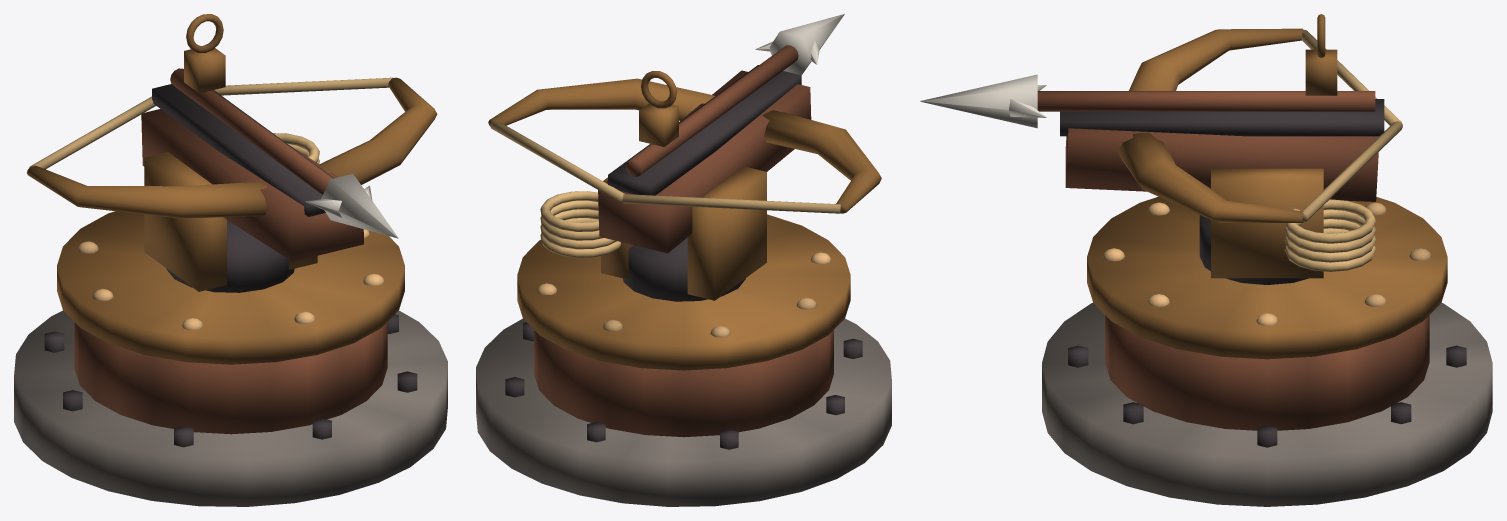
Rendered from torreta-arponero.glb.
3 renders of one model, left to right at view 1: azimuth 30°, elevation 25°; view 2: azimuth 150°, elevation 25°; view 3: azimuth 270°, elevation 25°, orthographic. The views are drawn at different scales.
Parts seen in each view (by area): view 1: Base, Head, Bow_L, Bow_R, Harpoon; view 2: Base, Head, Bow_L, Bow_R, Harpoon; view 3: Base, Head, Harpoon, Bow_R, Bow_L.
Boxes of the visible parts, <box> form: Base: <box>14,211,447,506</box>; Head: <box>141,14,363,292</box>; Bow_L: <box>27,96,267,218</box>; Bow_R: <box>214,77,437,184</box>; Harpoon: <box>170,68,398,238</box>; Base: <box>476,214,891,506</box>; Head: <box>540,65,811,301</box>; Bow_L: <box>623,110,881,213</box>; Bow_R: <box>488,78,714,202</box>; Harpoon: <box>625,14,844,176</box>; Base: <box>1042,196,1492,506</box>; Head: <box>1060,14,1384,284</box>; Harpoon: <box>920,74,1375,128</box>; Bow_R: <box>1118,121,1402,222</box>; Bow_L: <box>1129,28,1402,125</box>.
Bounding box in the file's own units: 1 × 0.969 × 1.27.
